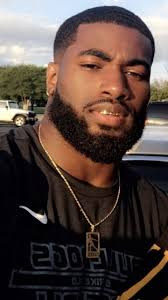s.black: (58, 70, 88, 133)
